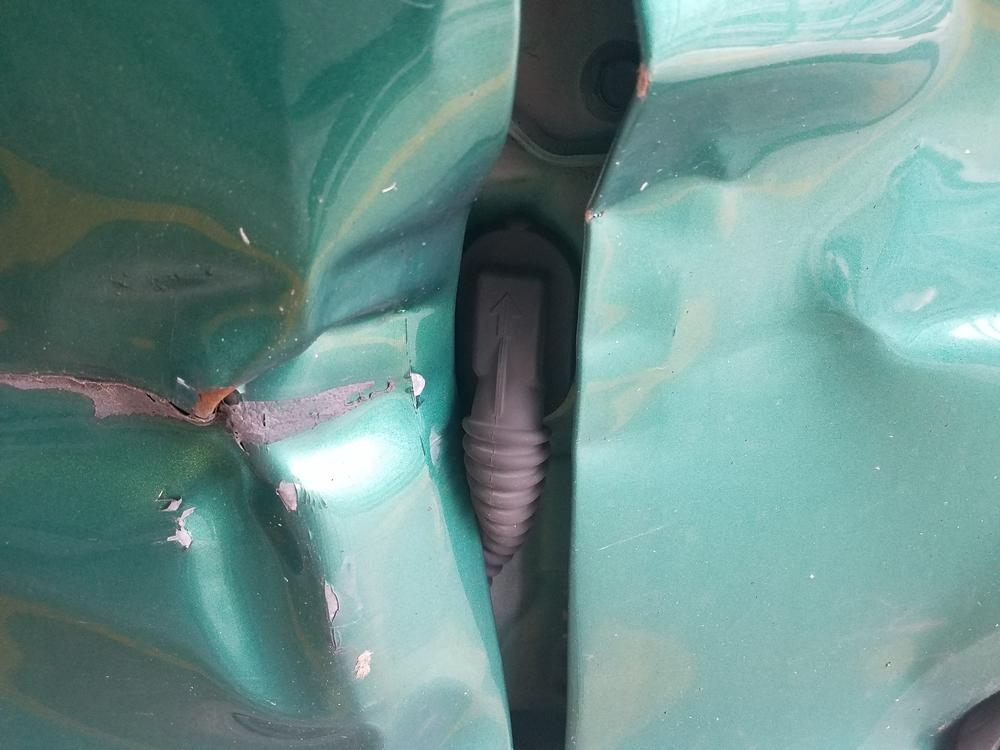dent: (0, 120, 498, 741), (582, 0, 1000, 480)
